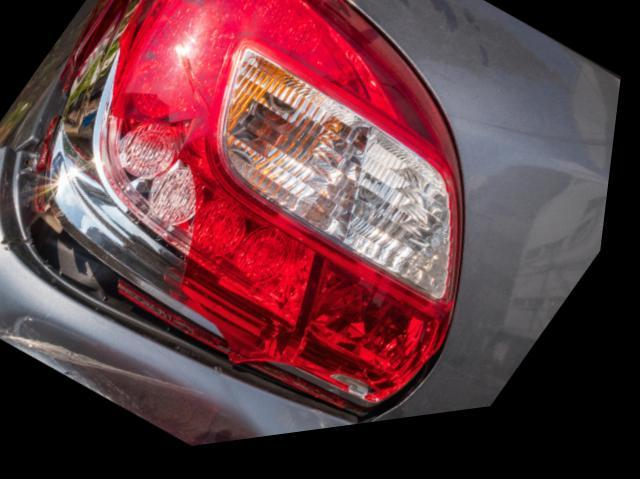dent: (0, 311, 273, 453)
lamp broken: (27, 0, 471, 430)
